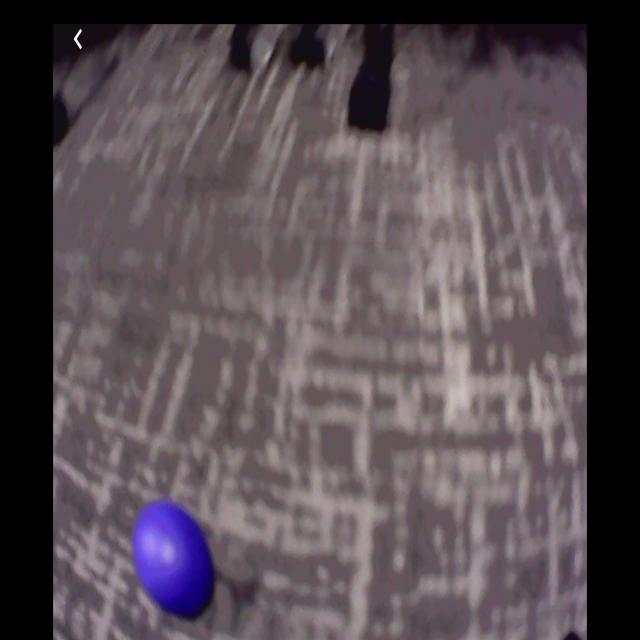ball: (134, 497, 215, 617)
